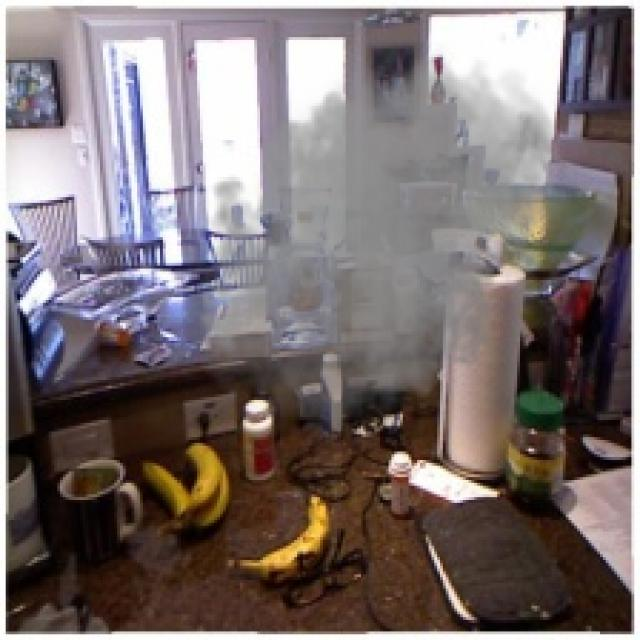smoke: (185, 43, 566, 451)
